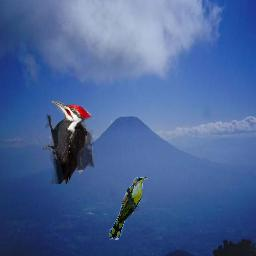Cuckoo: (109, 177, 148, 240)
Woodpecker: (43, 100, 94, 184)
